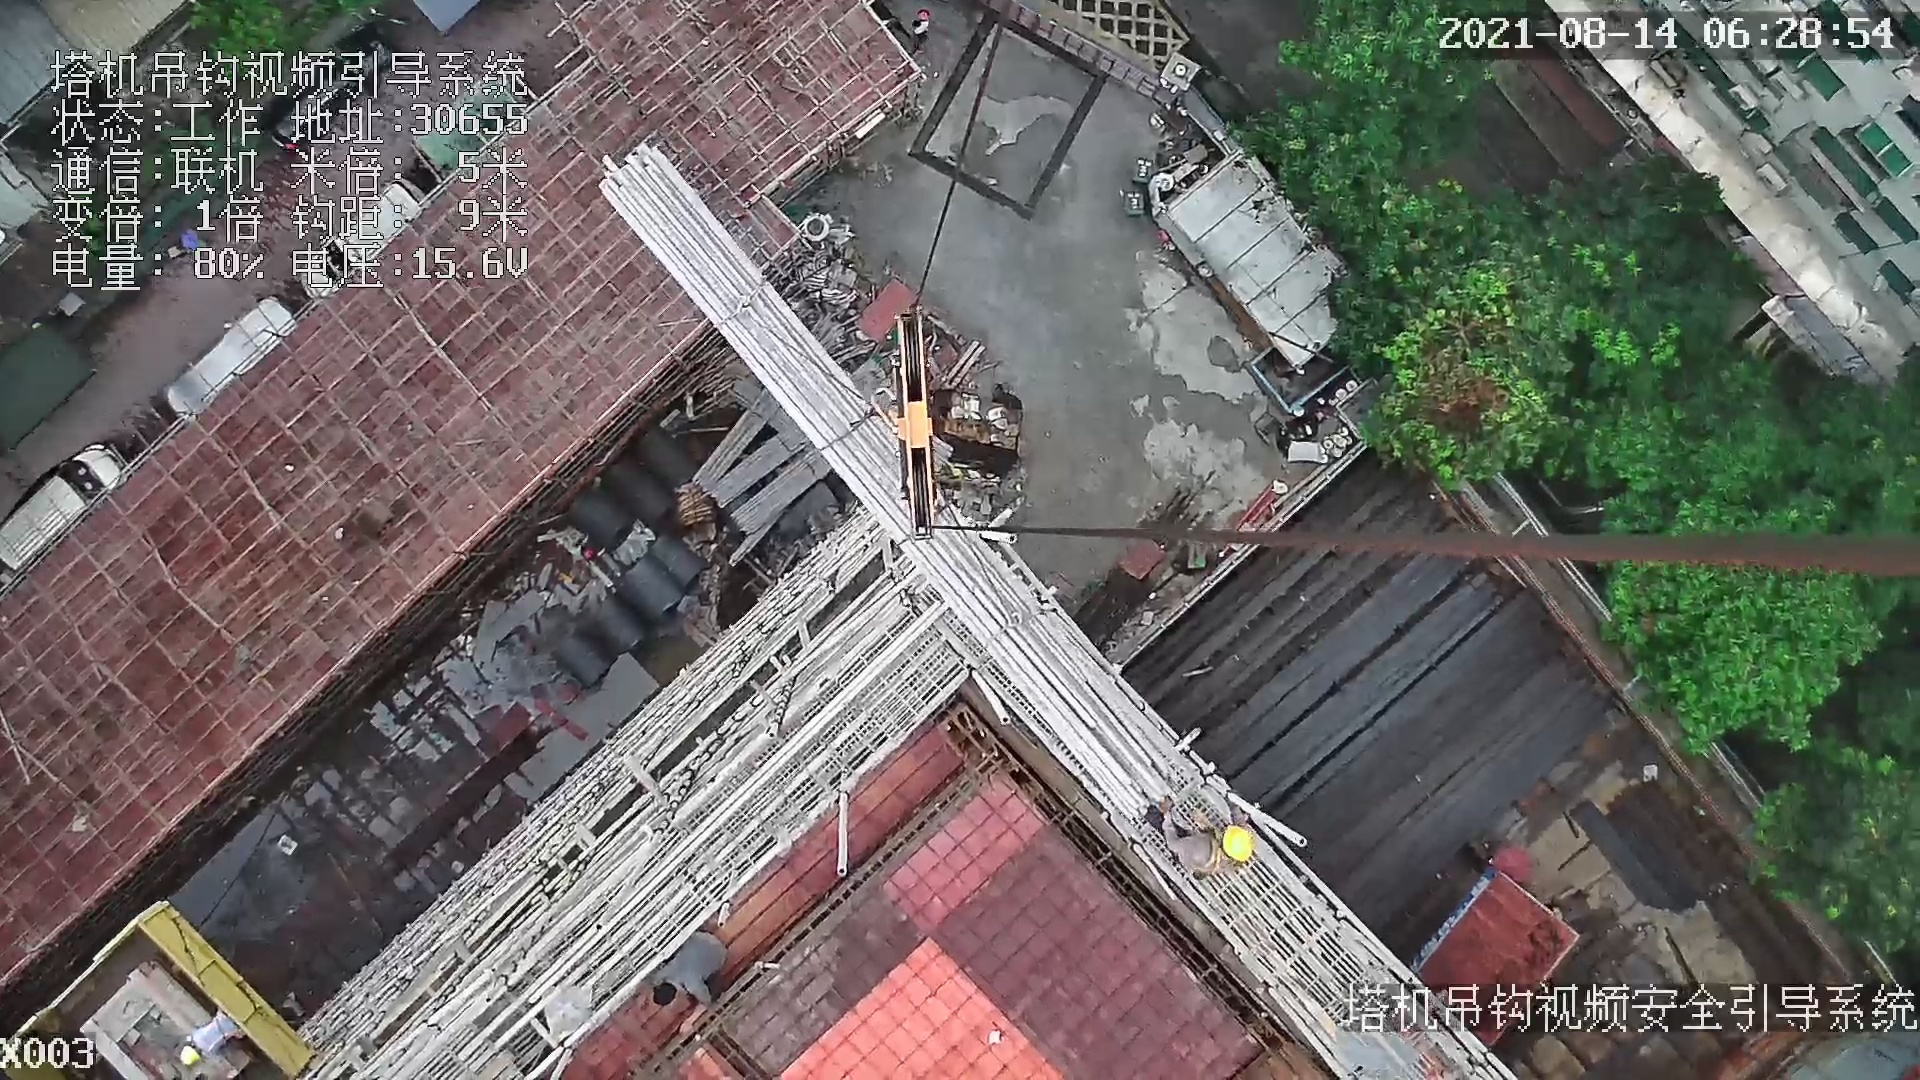helmet: (1224, 823, 1258, 865)
hook: (892, 308, 939, 544)
person: (1150, 798, 1257, 884)
rebar: (1212, 489, 1600, 890)
